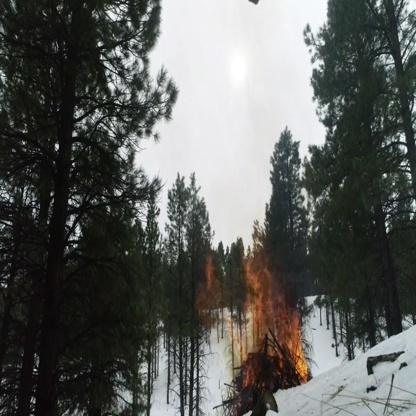Fire: (270, 293, 310, 385), (244, 227, 274, 320), (232, 323, 271, 386), (200, 254, 232, 328)
